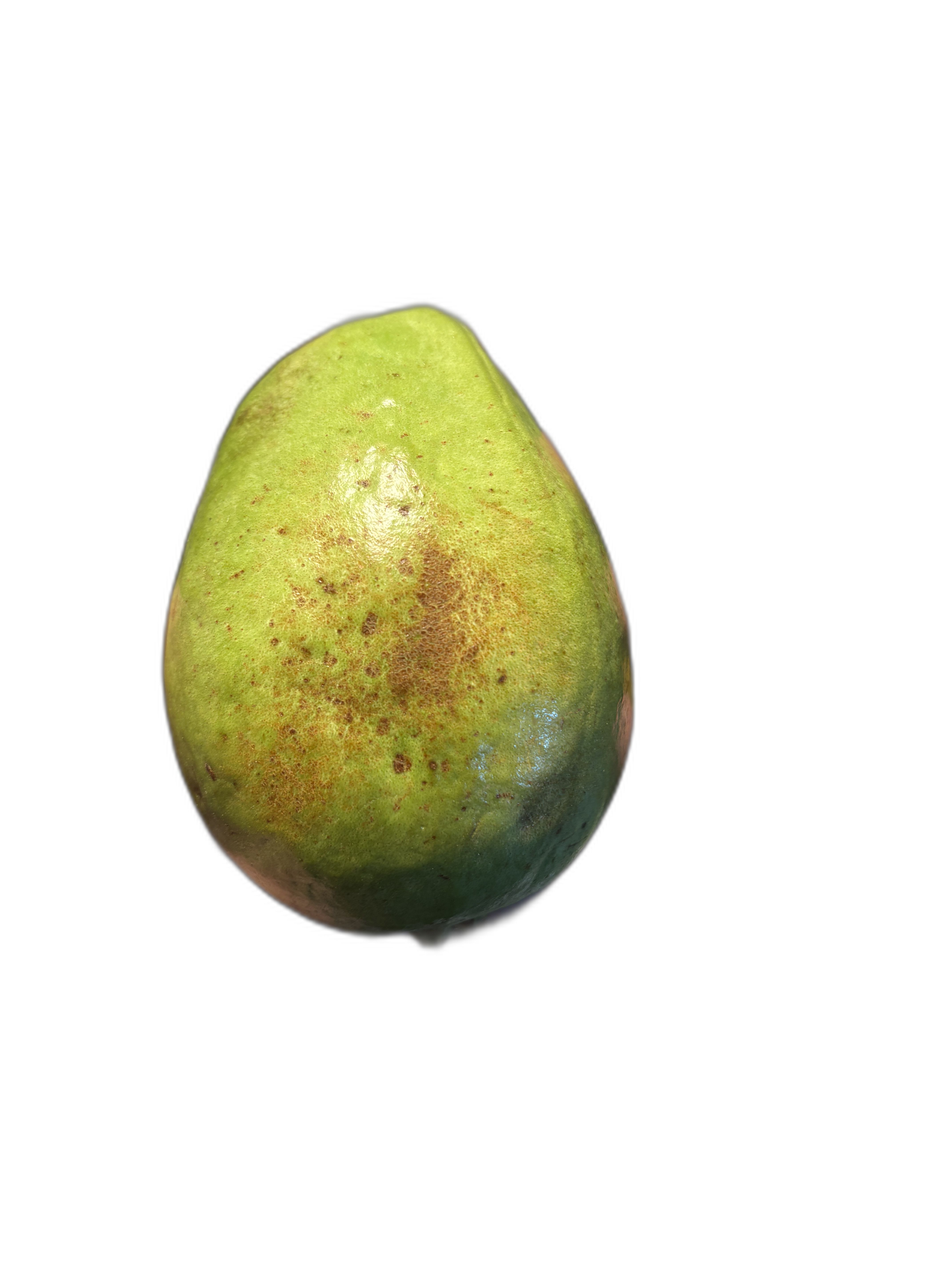guava: (158, 335, 763, 1147)
